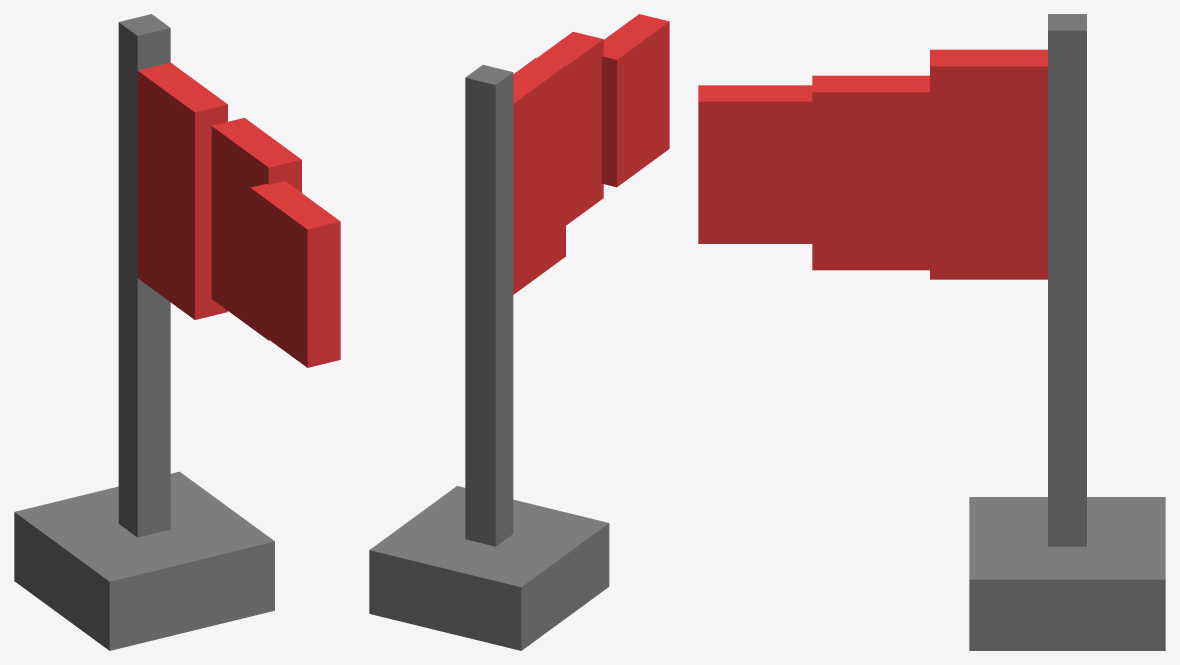
The model's file is flag.gltf.
The picture shows the model from 3 angles, left to right: view 1: azimuth 30°, elevation 25°; view 2: azimuth 150°, elevation 25°; view 3: azimuth 270°, elevation 25°; orthographic projection. The views are drawn at different scales.
Parts seen in each view (by area): view 1: Cube (×5); view 2: Cube (×5); view 3: Cube (×5).
Boxes of the visible parts, bbox=[...] form: Cube (×5): bbox=[14, 14, 340, 650]; Cube (×5): bbox=[369, 14, 669, 650]; Cube (×5): bbox=[698, 14, 1165, 650].
Bounding box in the file's own units: 10 × 33 × 23.8.
